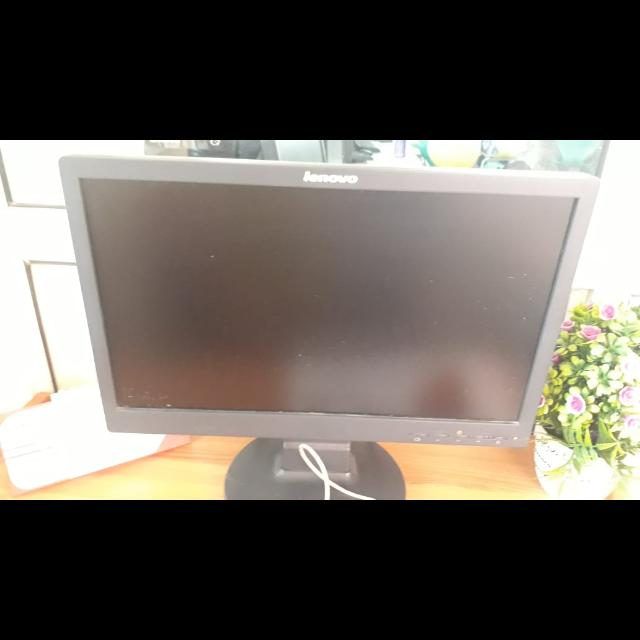Flat-Panel-Monitor: (54, 150, 608, 500)
